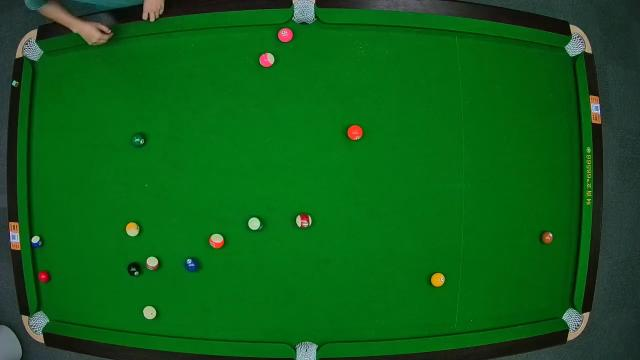bag1: (21, 40, 39, 60)
bag2: (293, 0, 317, 26)
bag3: (566, 35, 588, 55)
bag4: (28, 310, 46, 334)
bag5: (296, 340, 318, 360)
bag6: (562, 308, 584, 332)
ball0: (144, 306, 156, 320)
ball1: (431, 271, 445, 287)
ball10: (28, 235, 44, 249)
ball11: (296, 214, 314, 229)
ball12: (260, 52, 276, 68)
ball13: (209, 233, 225, 248)
ball14: (248, 216, 264, 232)
ball15: (144, 256, 160, 272)
ball2: (185, 257, 199, 271)
ball3: (38, 270, 50, 283)
ball4: (278, 27, 294, 43)
ball5: (348, 124, 364, 140)
ball6: (130, 132, 146, 148)
ball7: (542, 231, 554, 245)
ball8: (128, 262, 142, 278)
ball9: (125, 222, 141, 238)
